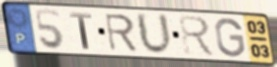5: (33, 7, 66, 52)
G: (214, 17, 247, 59)
R: (177, 14, 218, 59), (102, 12, 139, 53)
T: (69, 11, 94, 51)
U: (134, 11, 175, 57)
